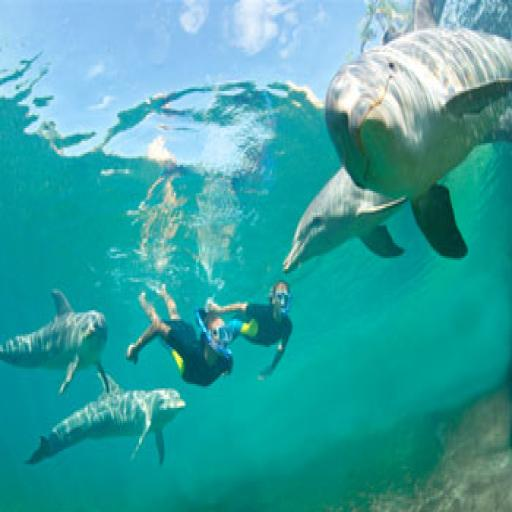swimming: (94, 229, 267, 429), (205, 223, 326, 402)
